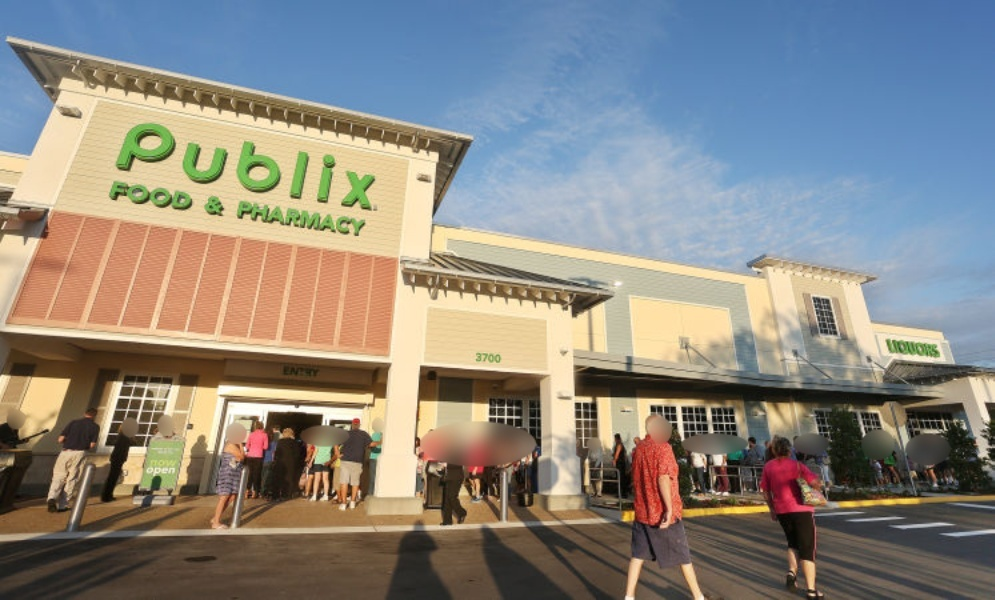text: (145, 119, 160, 213), (161, 119, 176, 213), (177, 119, 192, 213), (193, 119, 208, 213), (209, 119, 224, 213), (225, 119, 240, 213), (241, 119, 256, 213), (257, 119, 272, 213), (273, 119, 288, 213), (289, 119, 304, 213), (305, 119, 320, 213), (321, 119, 336, 213), (337, 119, 352, 213), (353, 119, 368, 213), (369, 119, 383, 213), (131, 119, 144, 213), (241, 201, 256, 238), (257, 201, 272, 238), (273, 201, 288, 238), (289, 201, 304, 238), (305, 201, 320, 238), (321, 201, 336, 238), (337, 201, 352, 238), (353, 201, 366, 238), (113, 181, 128, 211), (129, 181, 144, 211), (145, 181, 160, 211), (161, 181, 176, 211), (177, 181, 192, 211), (210, 195, 224, 217), (897, 339, 912, 359), (913, 339, 928, 359), (929, 339, 943, 359), (289, 365, 304, 381), (305, 365, 320, 381), (481, 353, 496, 365), (887, 339, 896, 359), (161, 466, 176, 475), (146, 466, 160, 475), (161, 459, 176, 467), (282, 365, 288, 381), (149, 459, 160, 467), (497, 353, 503, 365), (239, 201, 240, 238), (477, 353, 480, 365), (321, 365, 323, 381), (193, 181, 194, 211), (177, 466, 179, 475), (177, 459, 179, 467)
